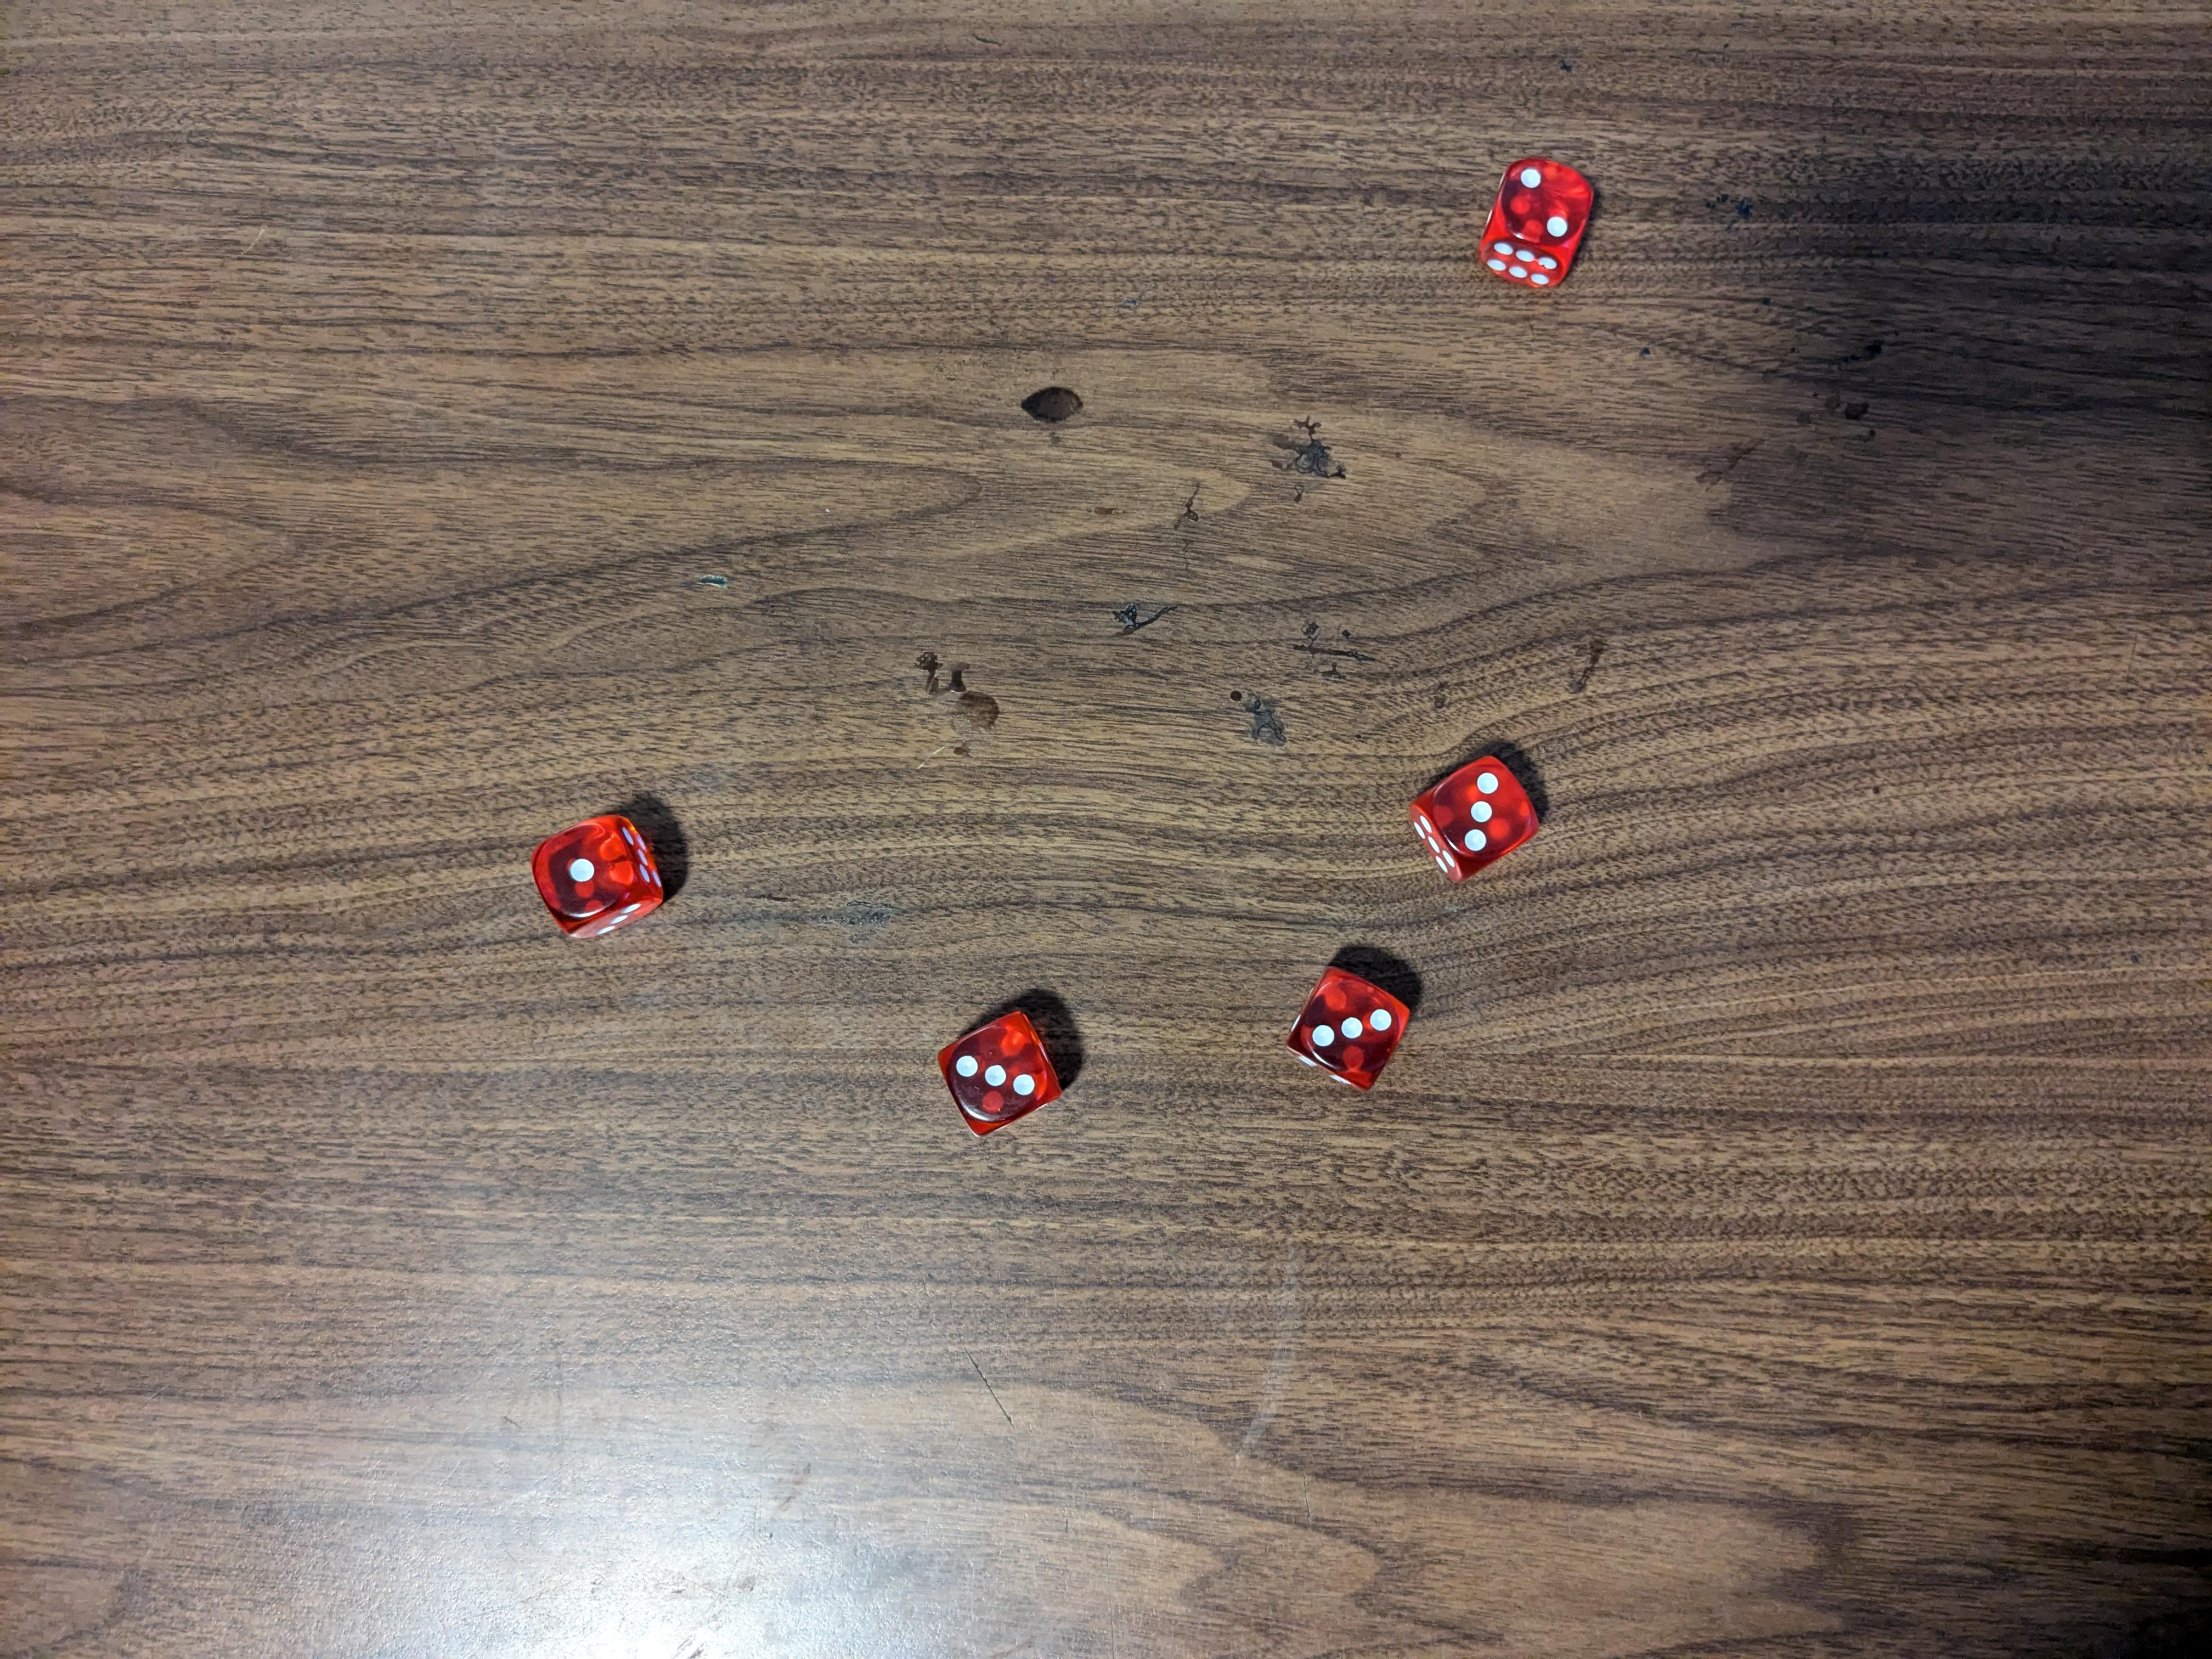one: (533, 809, 671, 943)
three: (932, 1009, 1071, 1143), (1284, 964, 1413, 1098), (1407, 755, 1540, 884)
two: (1479, 157, 1597, 289)
